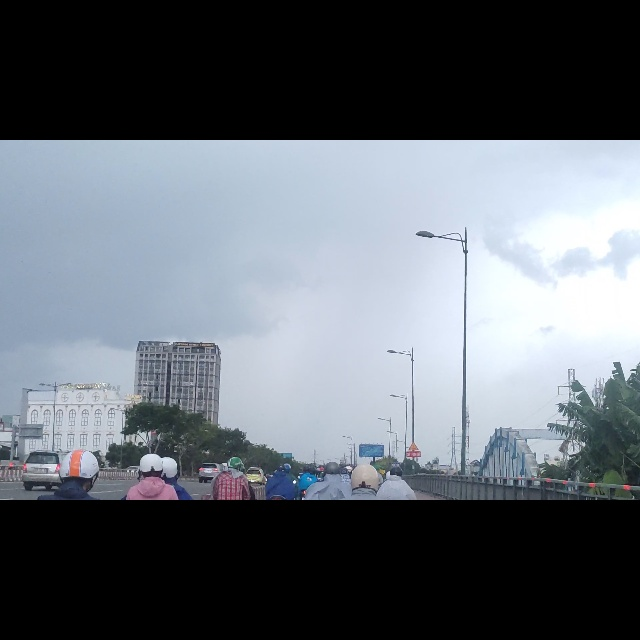bien_cam: (408, 535, 419, 553)
